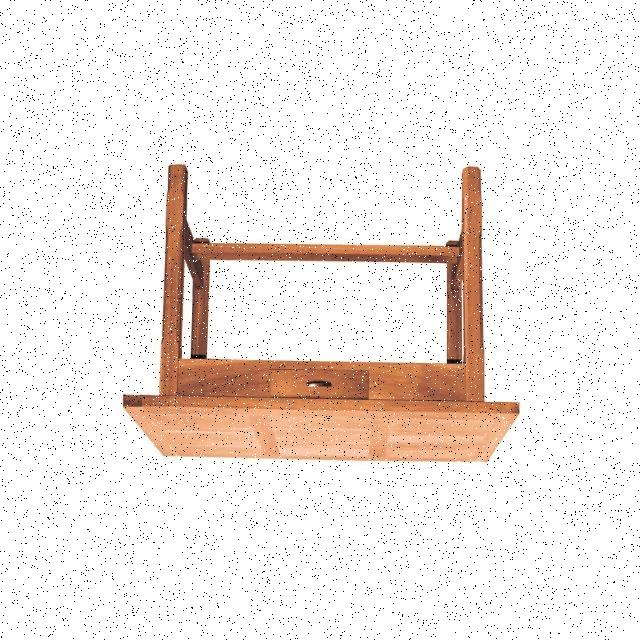mobile-phone: (120, 164, 518, 466)
